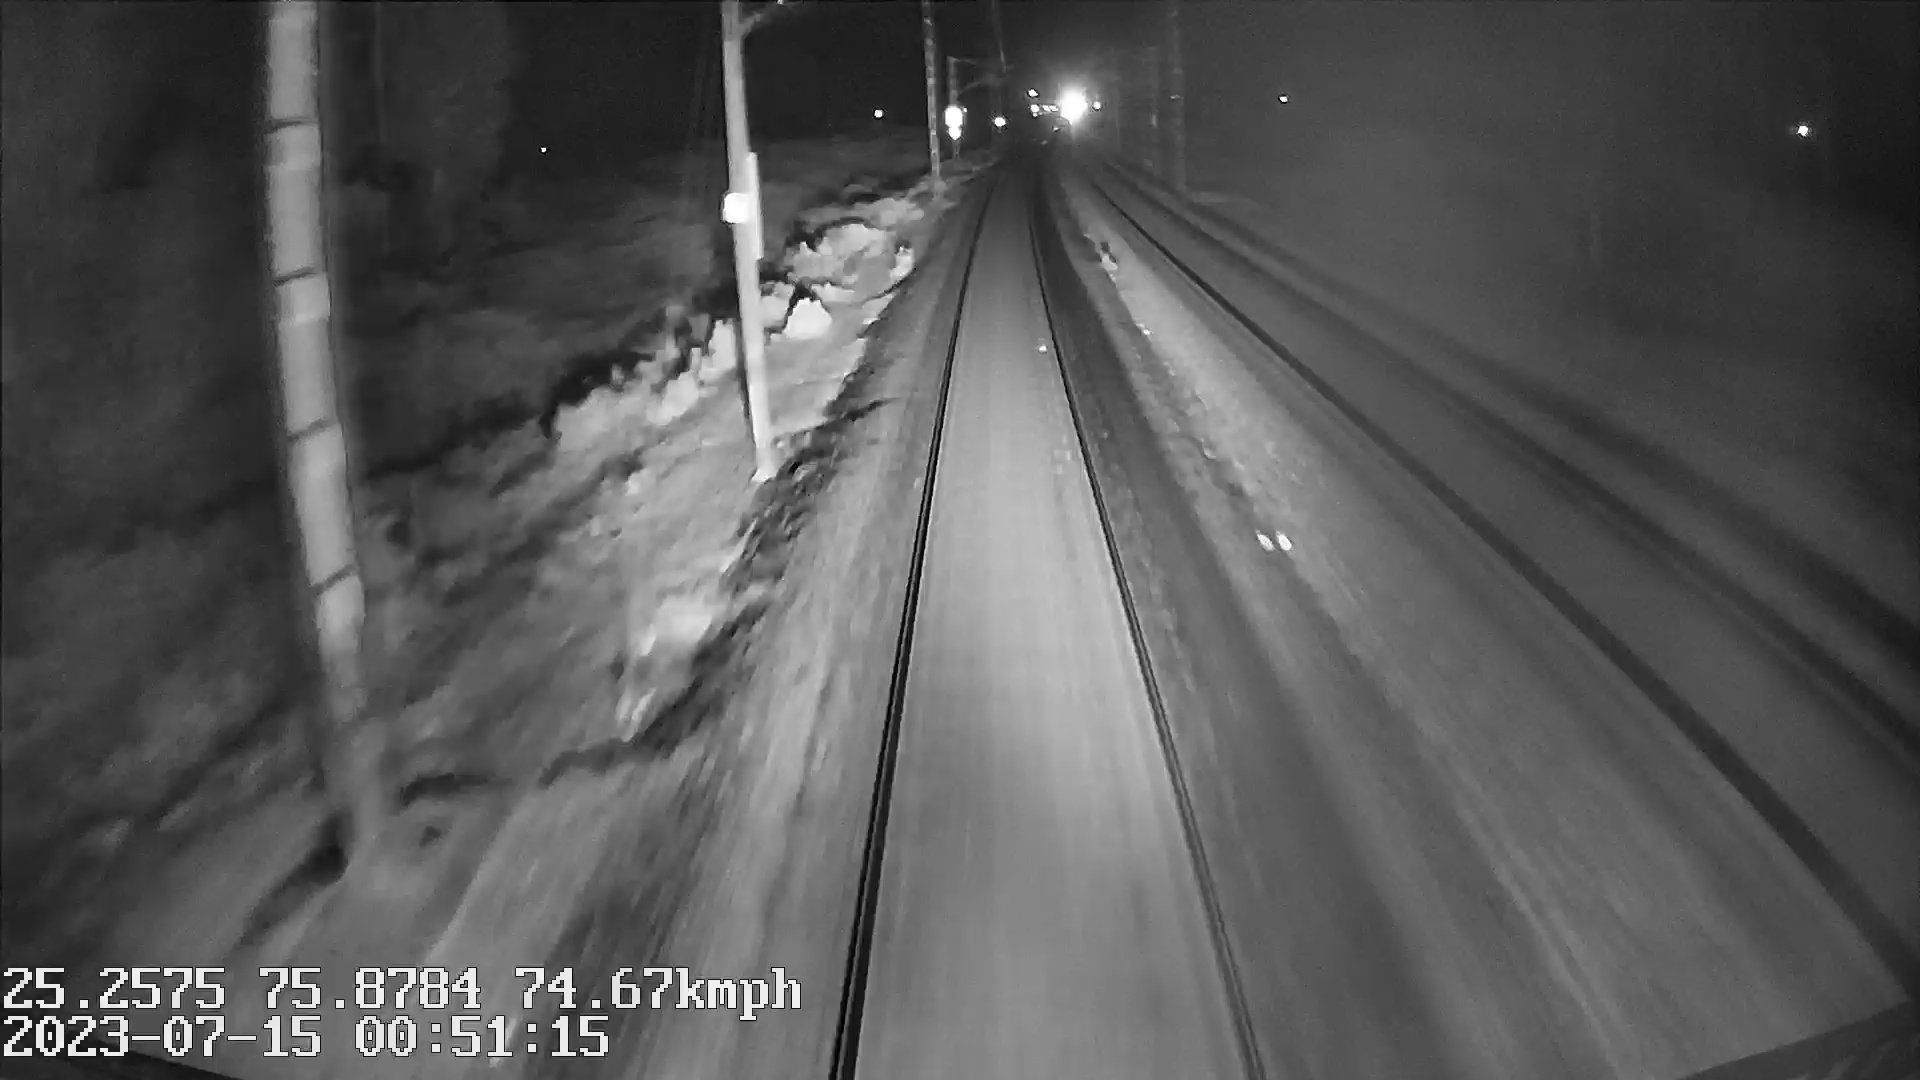track1: (845, 190, 1250, 1060)
track2: (1102, 193, 1913, 866)
